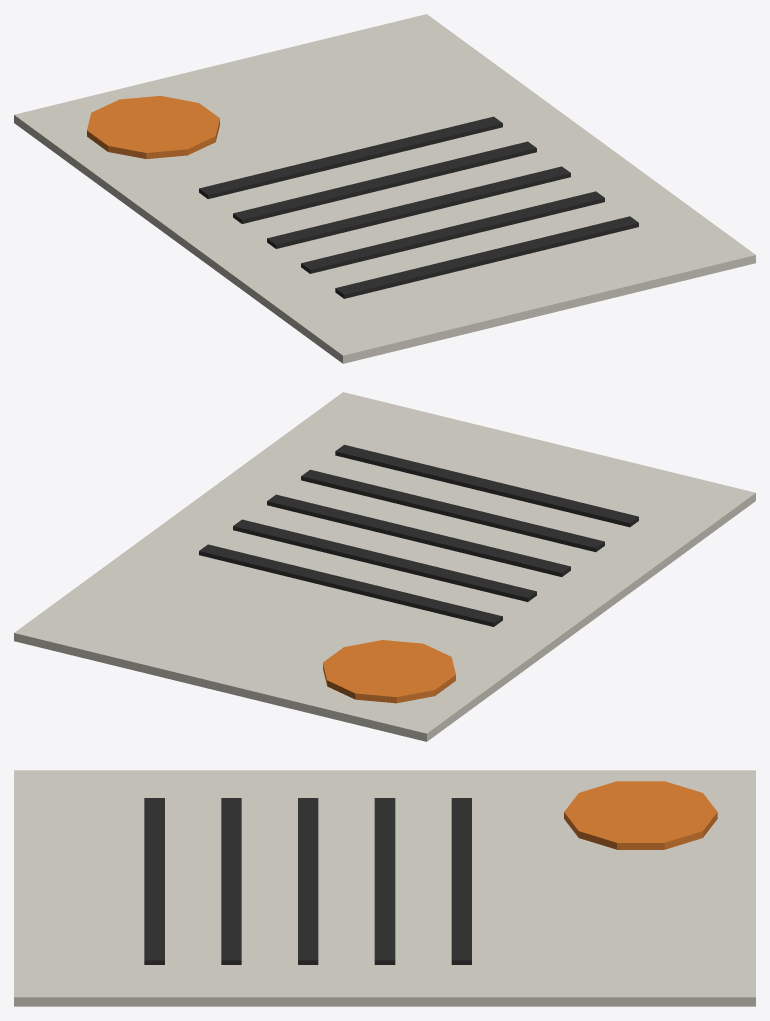
Rendered from inflated_invoice.glb.
The picture shows the model from 3 angles, top to bottom: view 1: azimuth 30°, elevation 25°; view 2: azimuth 150°, elevation 25°; view 3: azimuth 270°, elevation 25°; orthographic projection. The views are drawn at different scales.
Visible parts, largest first — view 1: sheet_invoice_sheet, lines_invoice_ink (×5), logo_invoice_logo; view 2: sheet_invoice_sheet, lines_invoice_ink (×5), logo_invoice_logo; view 3: sheet_invoice_sheet, lines_invoice_ink (×5), logo_invoice_logo.
Part boxes in pixels (left/top/right/bottom): sheet_invoice_sheet: left=14, top=14, right=755, bottom=363; lines_invoice_ink (×5): left=199, top=116, right=638, bottom=298; logo_invoice_logo: left=87, top=95, right=219, bottom=159; sheet_invoice_sheet: left=14, top=392, right=755, bottom=741; lines_invoice_ink (×5): left=199, top=444, right=638, bottom=626; logo_invoice_logo: left=323, top=640, right=455, bottom=703; sheet_invoice_sheet: left=14, top=770, right=755, bottom=1006; lines_invoice_ink (×5): left=144, top=798, right=471, bottom=964; logo_invoice_logo: left=564, top=781, right=717, bottom=849.
Size of the model in its own units: 0.21 by 0.007 by 0.29.
